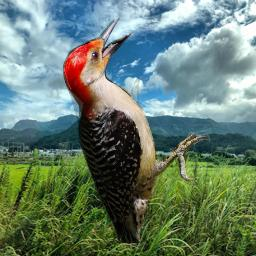Woodpecker: (63, 17, 212, 243)
